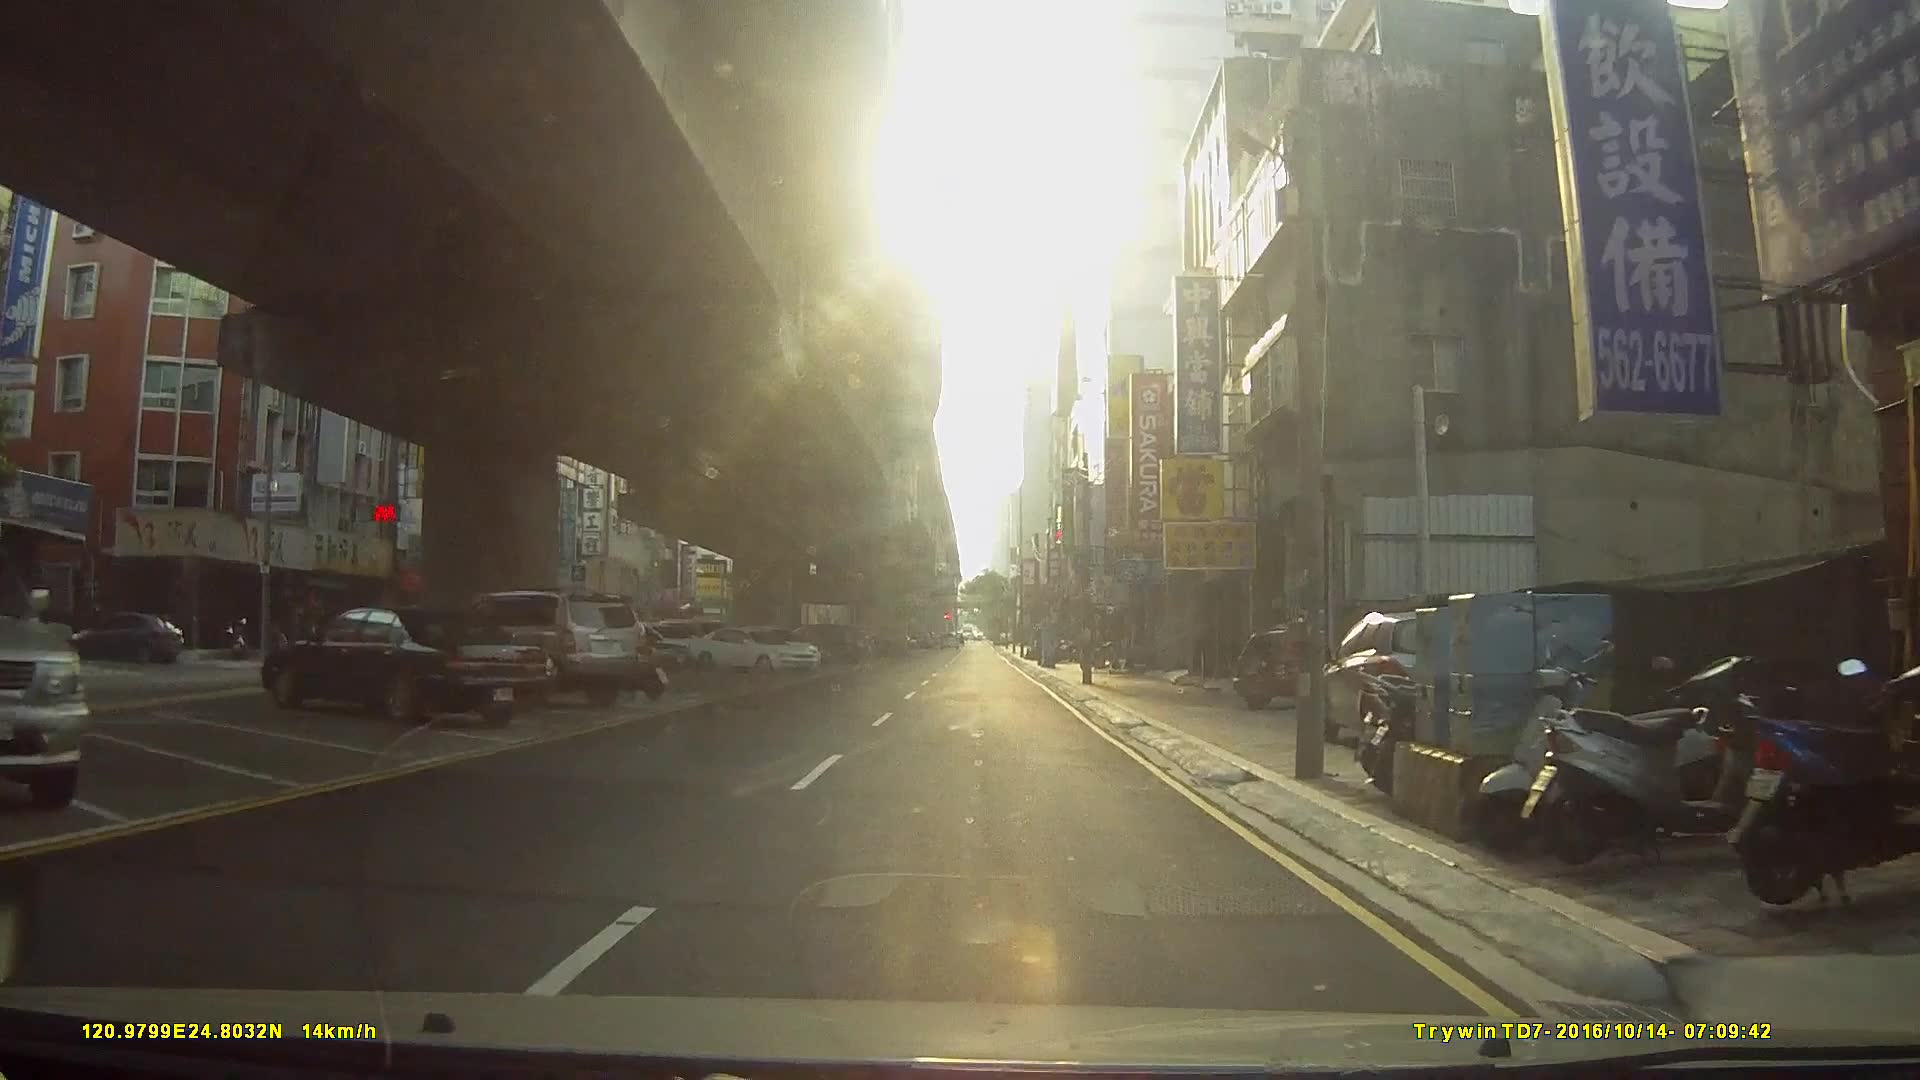vehicle: (258, 604, 553, 728), (0, 541, 91, 814), (1313, 608, 1490, 742), (446, 588, 644, 708), (1232, 618, 1364, 709), (684, 625, 822, 676), (73, 609, 185, 663)
